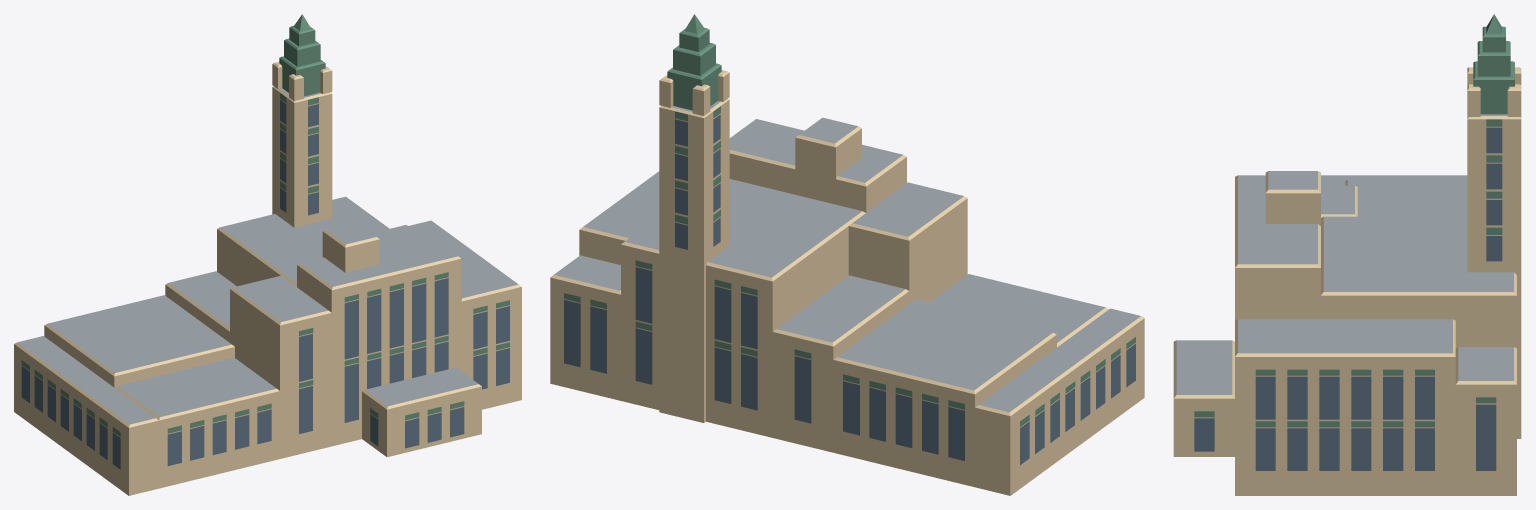
File: la-bullocks-wilshire.glb
3 renders of one model, left to right at view 1: azimuth 30°, elevation 25°; view 2: azimuth 150°, elevation 25°; view 3: azimuth 270°, elevation 25°, orthographic. The views are drawn at different scales.
Parts seen in each view (by area): view 1: Bullocks Wilshire; view 2: Bullocks Wilshire; view 3: Bullocks Wilshire.
Part boxes in pixels (x1=…): Bullocks Wilshire: x1=14, y1=14, x2=521, y2=495; Bullocks Wilshire: x1=550, y1=14, x2=1144, y2=495; Bullocks Wilshire: x1=1173, y1=14, x2=1521, y2=495.
Size of the model in its own units: 91.12 by 74.5 by 56.82.
